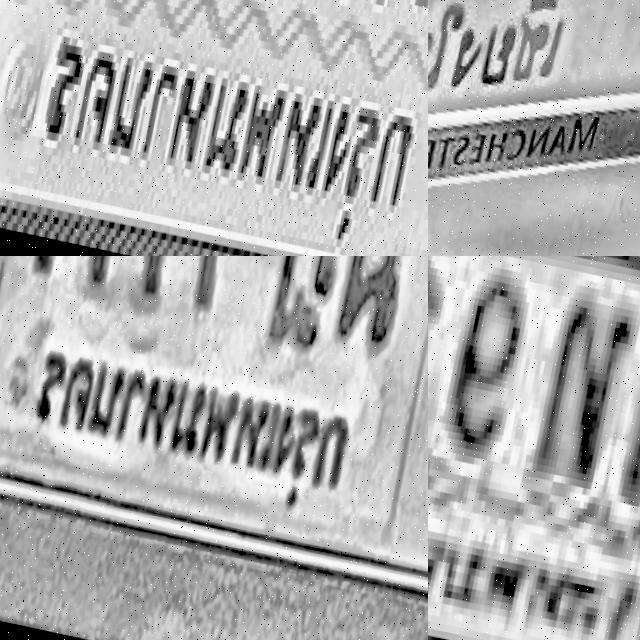license-plate: (0, 256, 428, 632), (0, 0, 428, 256), (428, 256, 640, 640), (428, 0, 640, 256)
